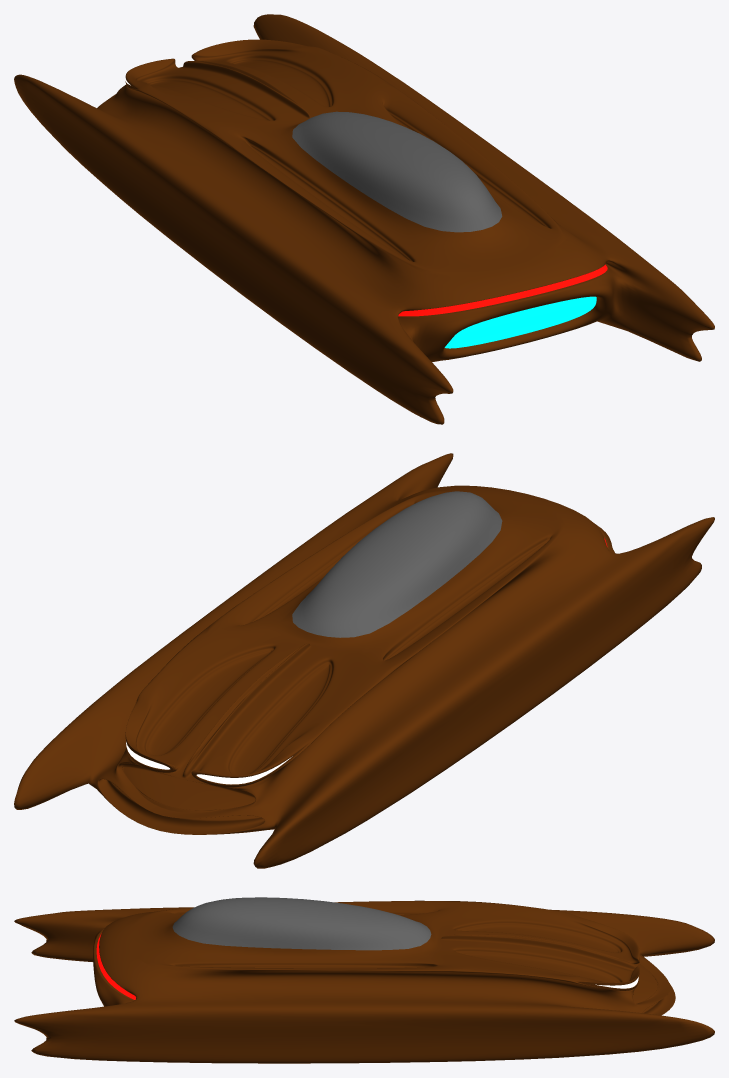
File: futuristic_sci-fi_car.glb
3 renders of one model, top to bottom at view 1: azimuth 30°, elevation 25°; view 2: azimuth 150°, elevation 25°; view 3: azimuth 270°, elevation 25°, orthographic. The views are drawn at different scales.
Visible parts, largest first — view 1: Futuristic Car; view 2: Futuristic Car; view 3: Futuristic Car.
Boxes of the visible parts, left/top/right/bottom form: Futuristic Car: left=14, top=14, right=714, bottom=424; Futuristic Car: left=14, top=453, right=714, bottom=868; Futuristic Car: left=14, top=897, right=714, bottom=1063.
Bounding box in the file's own units: 3.86 × 1.86 × 10.83.
